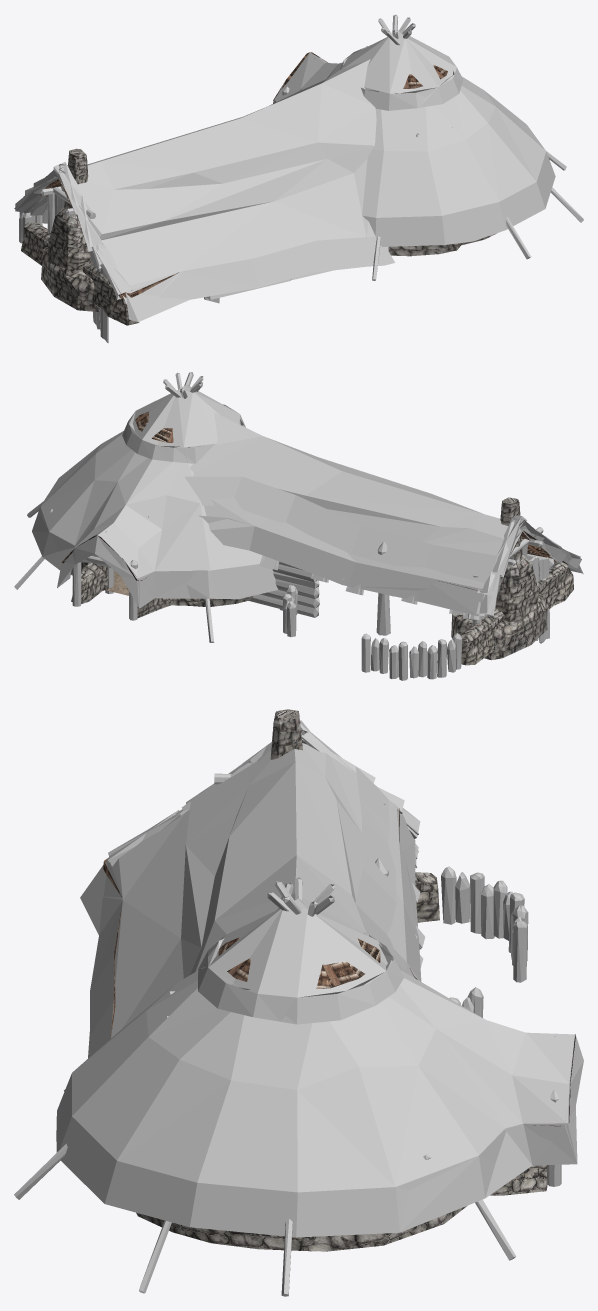
File: Smith_1_LOD2.fbx
3 views of the same model, one above another, from view 1: azimuth 30°, elevation 25°; view 2: azimuth 150°, elevation 25°; view 3: azimuth 270°, elevation 25° (orthographic). The views are drawn at different scales.
Visible parts, largest first — view 1: Alpha, Stone, Wood, Roof; view 2: Alpha, Wood, Stone, Roof; view 3: Alpha, Wood, Stone, Roof.
Part boxes in pixels (bbox=[...]): Alpha: bbox=[14, 30, 555, 321]; Stone: bbox=[21, 148, 496, 325]; Wood: bbox=[19, 14, 583, 343]; Roof: bbox=[40, 52, 447, 299]; Alpha: bbox=[32, 385, 583, 619]; Wood: bbox=[14, 372, 554, 680]; Stone: bbox=[71, 497, 573, 665]; Roof: bbox=[40, 411, 568, 591]; Alpha: bbox=[56, 720, 583, 1237]; Wood: bbox=[14, 773, 561, 1296]; Stone: bbox=[136, 709, 547, 1251]; Roof: bbox=[103, 808, 575, 1126].
Size of the model in its own units: 3330 by 2060 by 1315.
